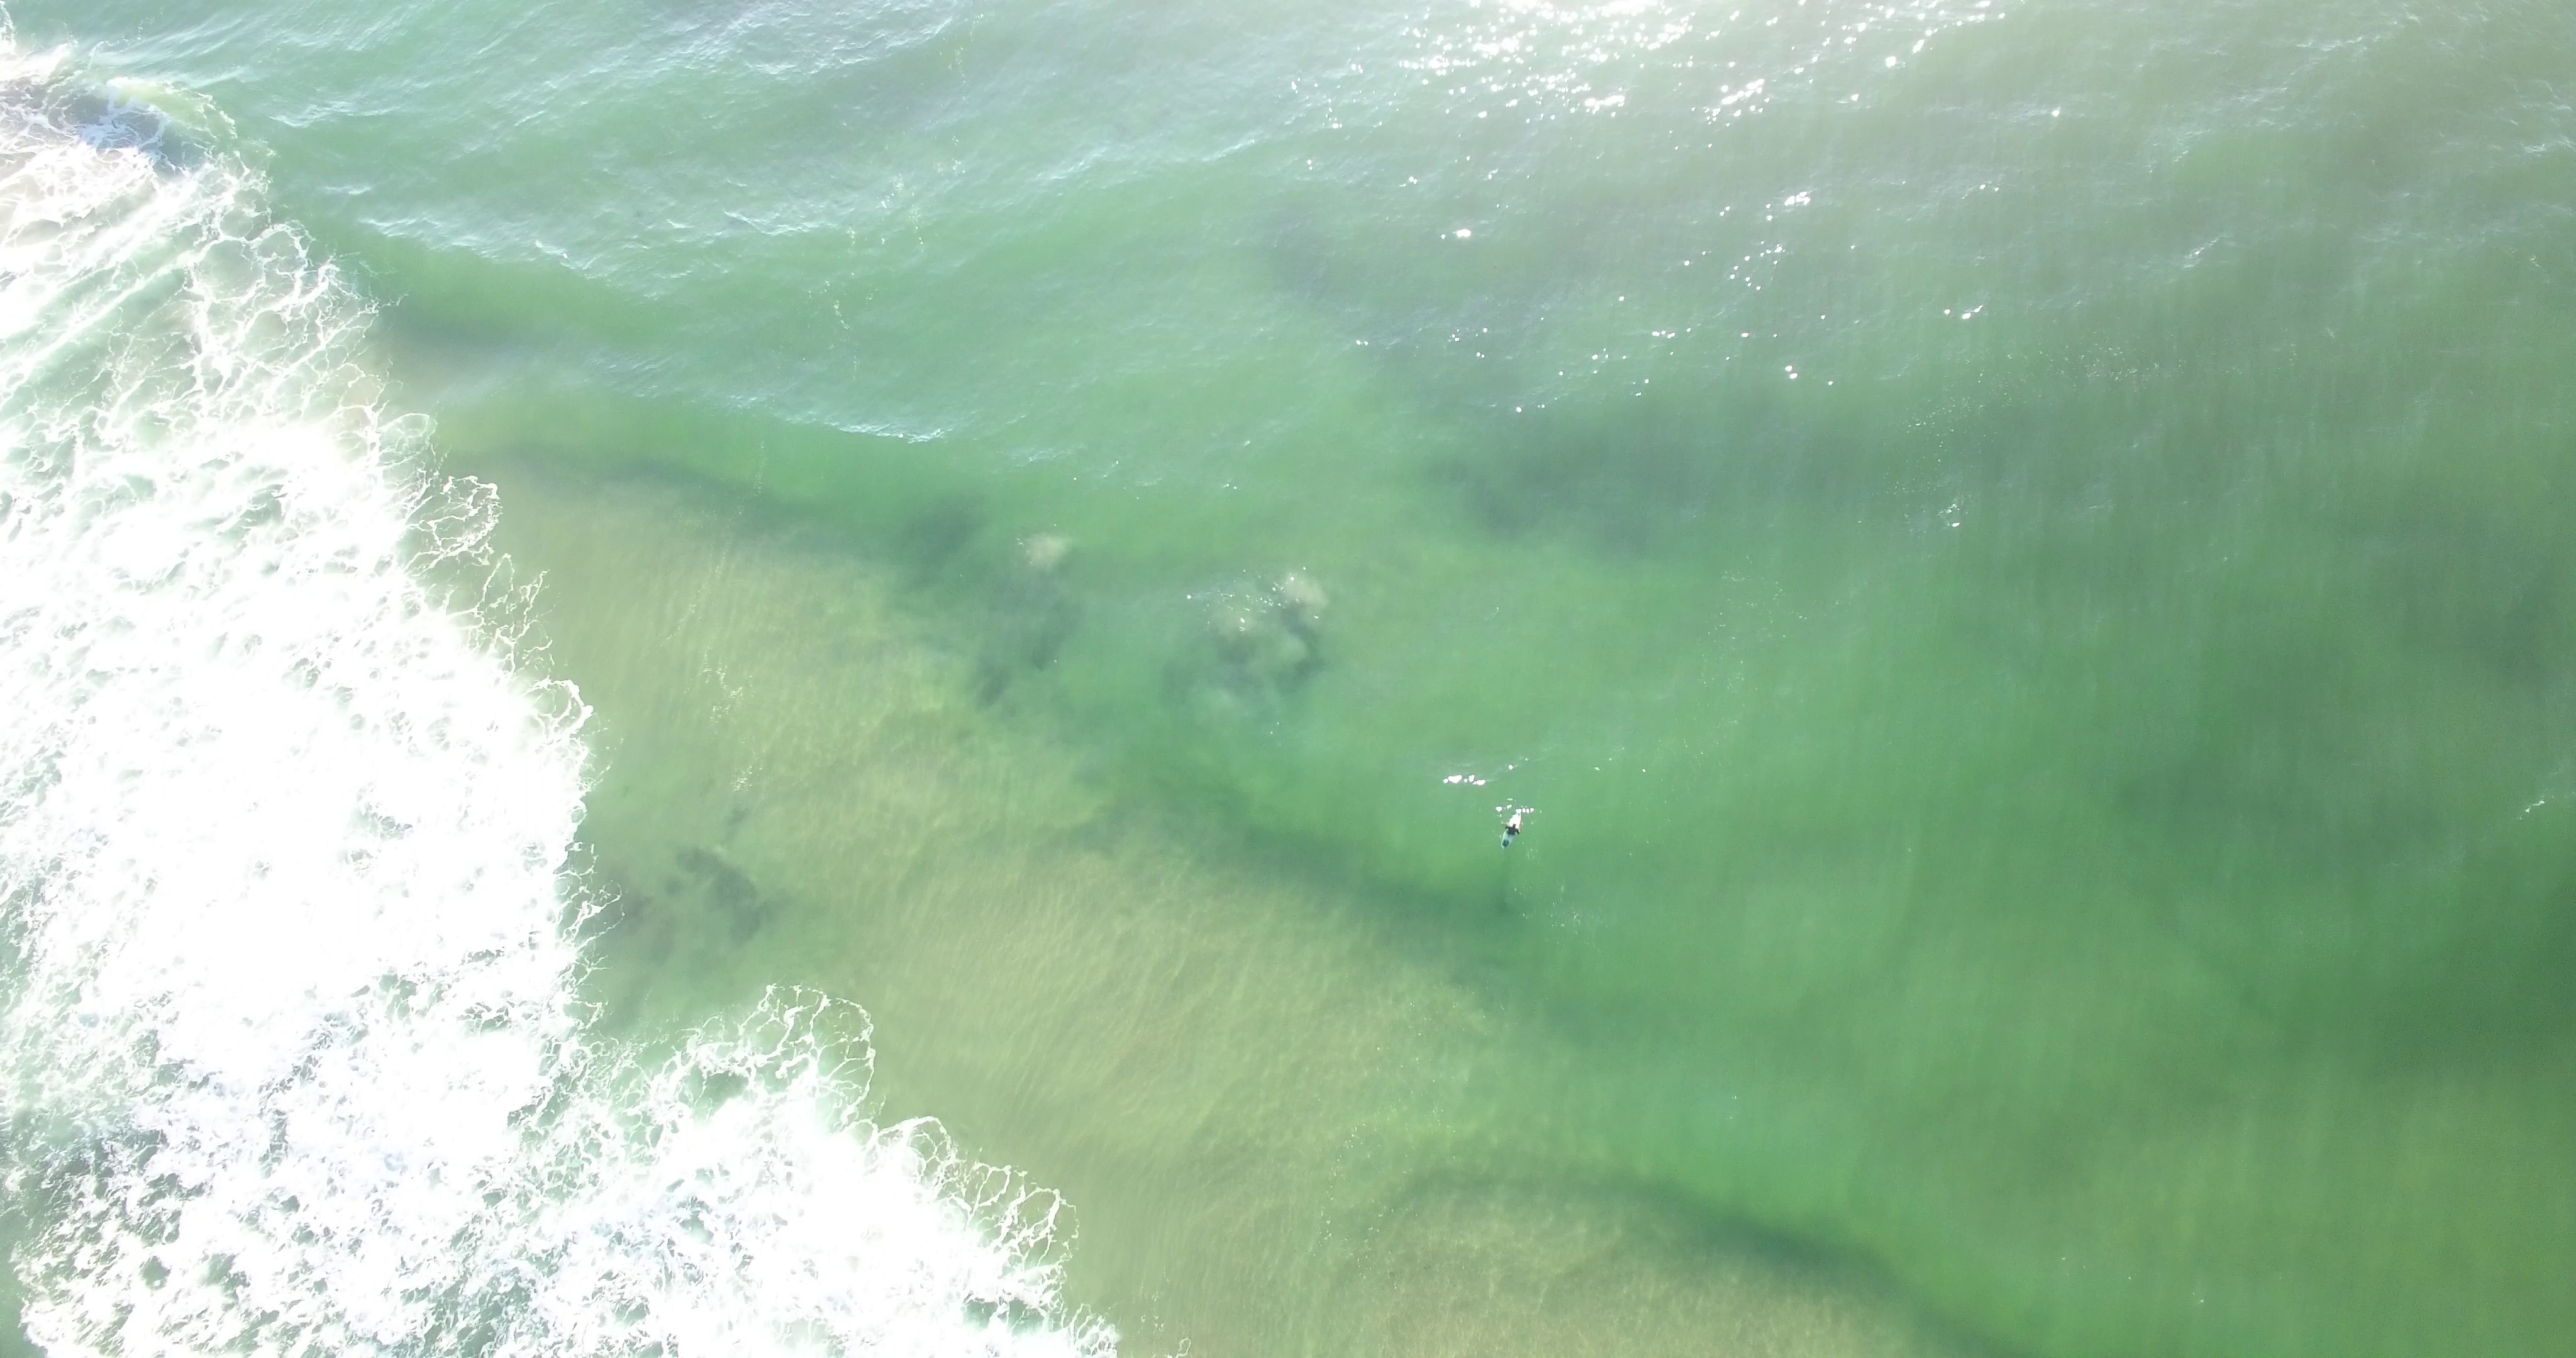surfer: (1496, 809, 1527, 849)
